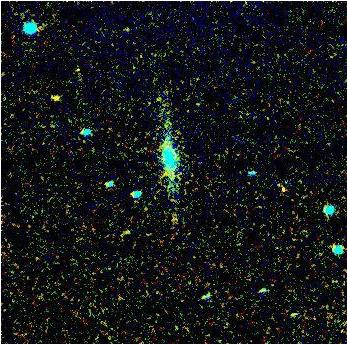star: (40, 84, 70, 114)
